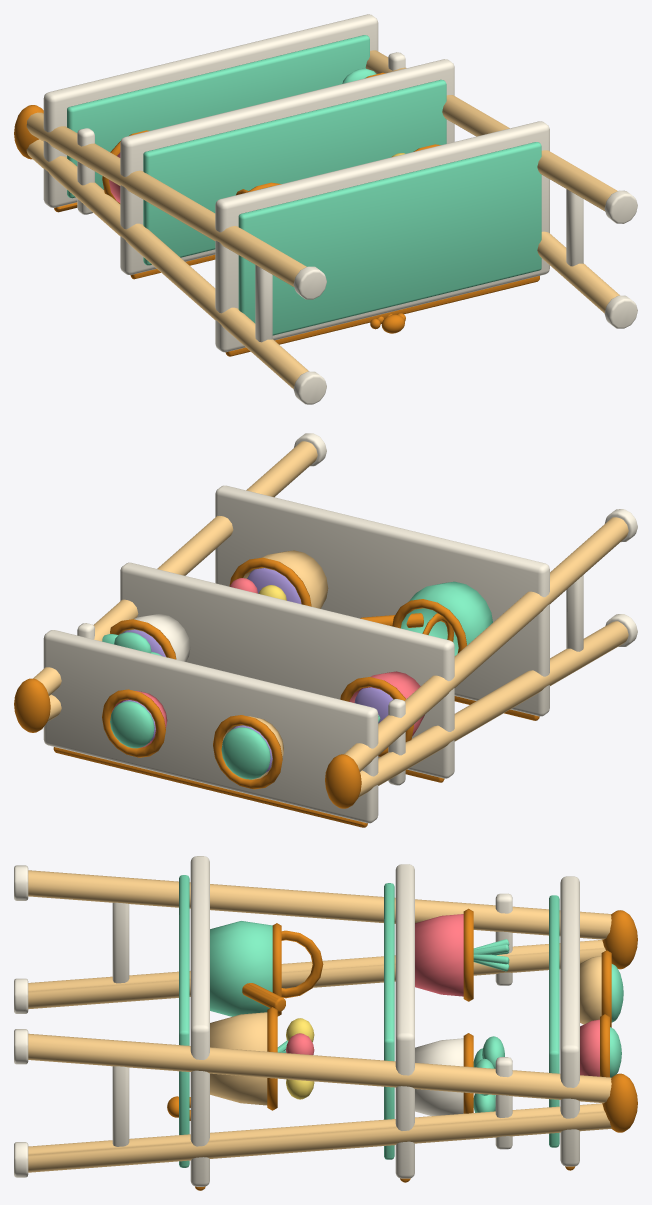
File: BalconyHerbShelf_Premium.fbx
3 views of the same model, one above another, from view 1: azimuth 30°, elevation 25°; view 2: azimuth 150°, elevation 25°; view 3: azimuth 270°, elevation 25° (orthographic). The views are drawn at different scales.
Parts seen in each view (by area): view 1: BalconyHerbShelf; view 2: BalconyHerbShelf; view 3: BalconyHerbShelf.
Part boxes in pixels (x1,y1,x2,y2): BalconyHerbShelf: (14, 14, 637, 404); BalconyHerbShelf: (14, 433, 637, 827); BalconyHerbShelf: (14, 856, 637, 1190).
Bounding box in the file's own units: 0.96 × 0.4345 × 1.4.
